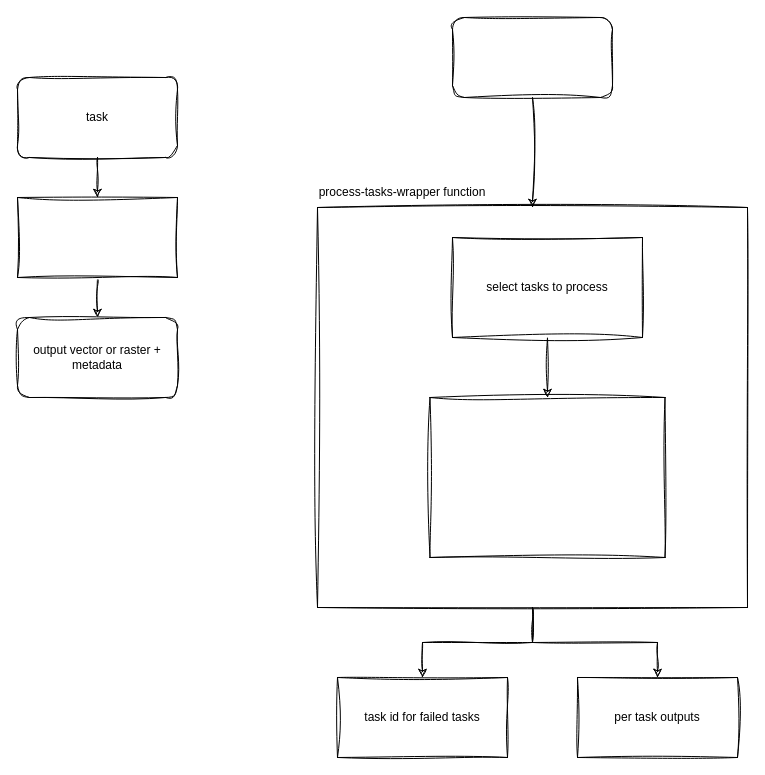
Some shapes in this 765 by 775 pixel diagram are drawn without their labels. Each missing label, with the box of its shape:
list of all tasks: (452, 16, 612, 98)
main_process_task function: (16, 196, 178, 278)
process in sequence or parallize using the main_process_task function: (429, 396, 665, 558)
